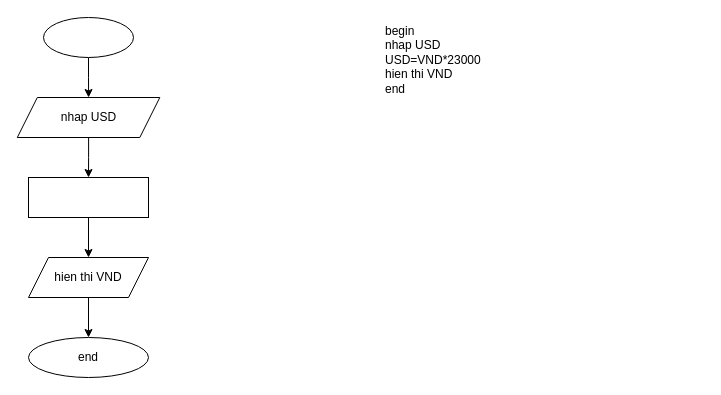
Some shapes in this 721 by 395 pixel diagram are drawn without their labels. The centre of each missing label's shape, as x and y in pixels:
"begin" belongs at pixel 88 37.
"USD= VND*23000" belongs at pixel 88 197.
